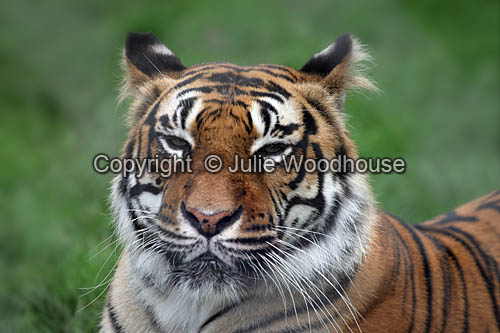Tigre: (101, 33, 444, 324)
